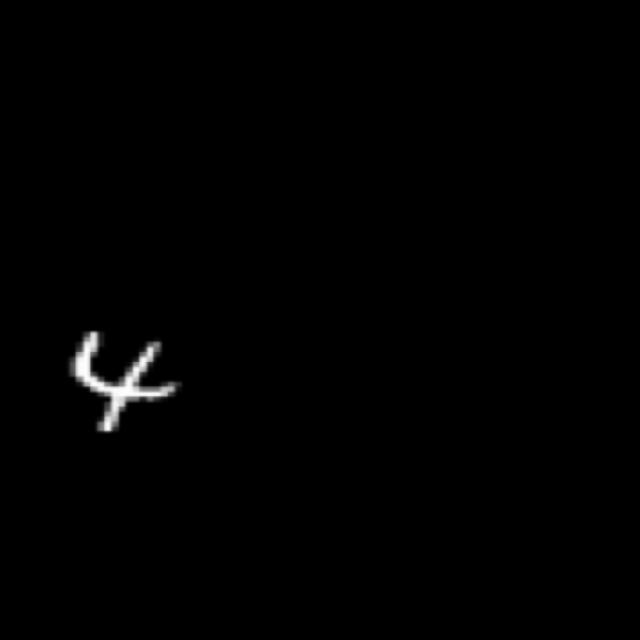four -4-: (50, 318, 190, 444)
